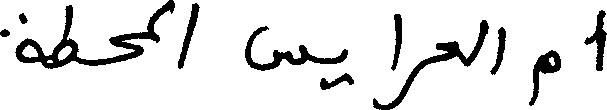X: (246, 21, 305, 75), (0, 8, 42, 69), (143, 0, 172, 56), (54, 0, 76, 72), (534, 45, 559, 107), (178, 0, 196, 73), (110, 27, 141, 68), (393, 9, 401, 109), (403, 58, 419, 103), (596, 5, 606, 75), (435, 36, 457, 67), (494, 22, 505, 79), (473, 15, 485, 65), (338, 44, 347, 88)
